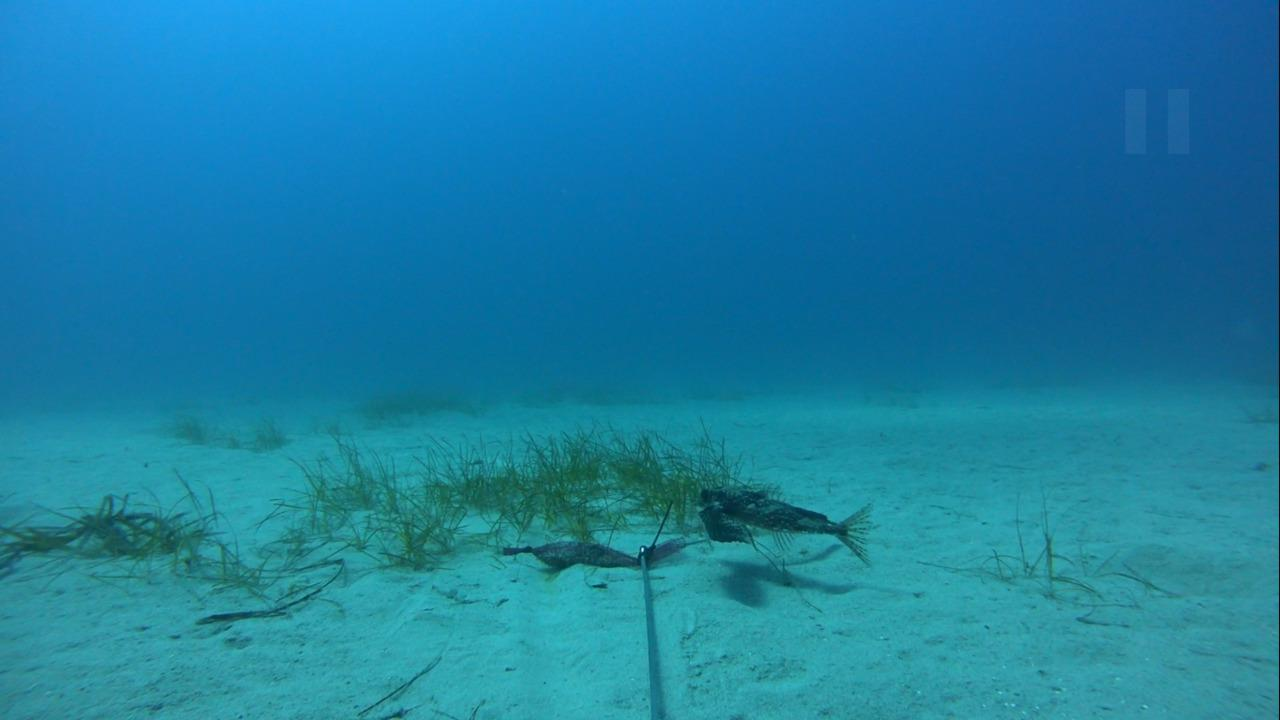dactylopterus: (692, 478, 879, 573)
